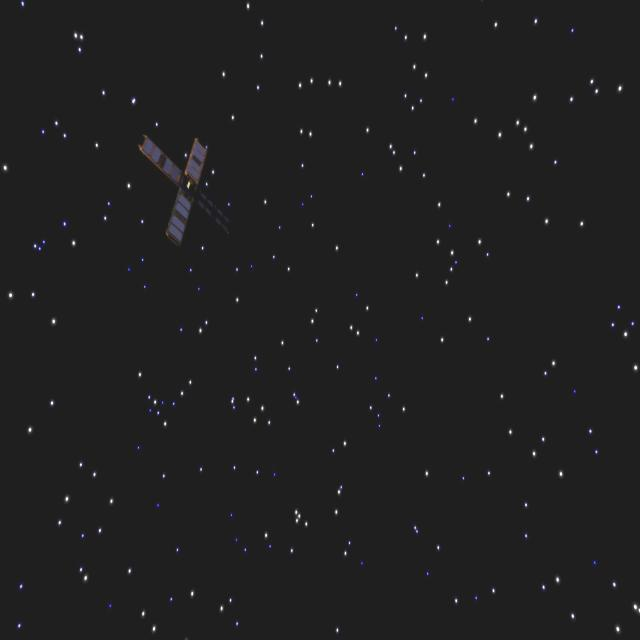satellite: (134, 126, 246, 255)
